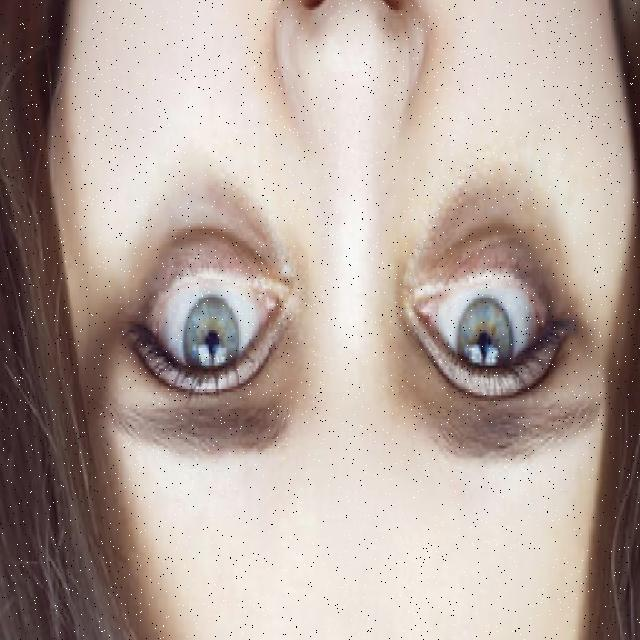puffy_eyes: (139, 181, 291, 309), (416, 192, 560, 309)
